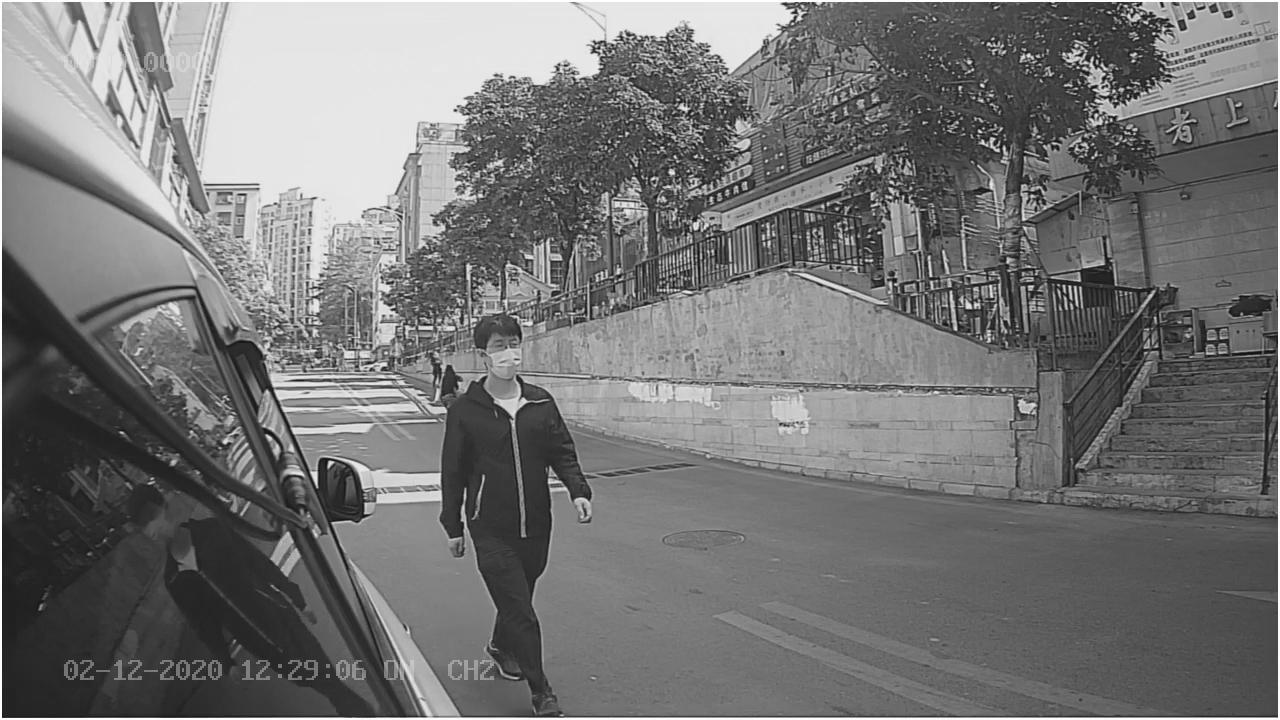person: (436, 314, 593, 559)
